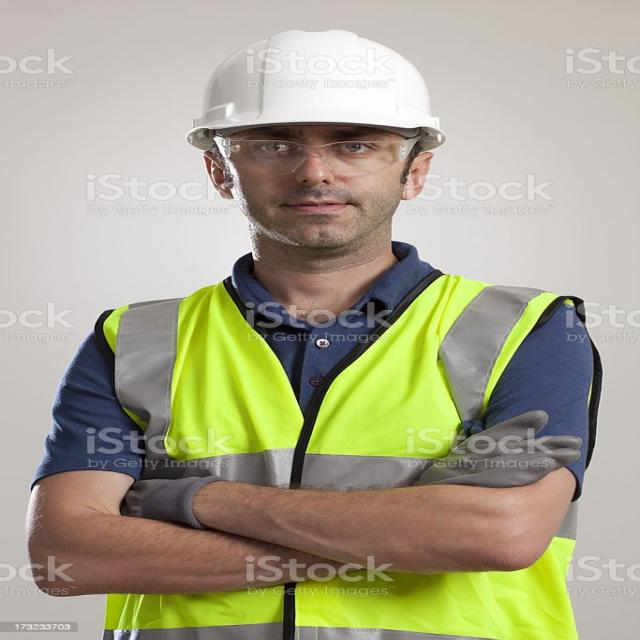goggles: (197, 131, 429, 174)
helmet: (186, 25, 452, 156)
vest: (99, 271, 583, 640)
